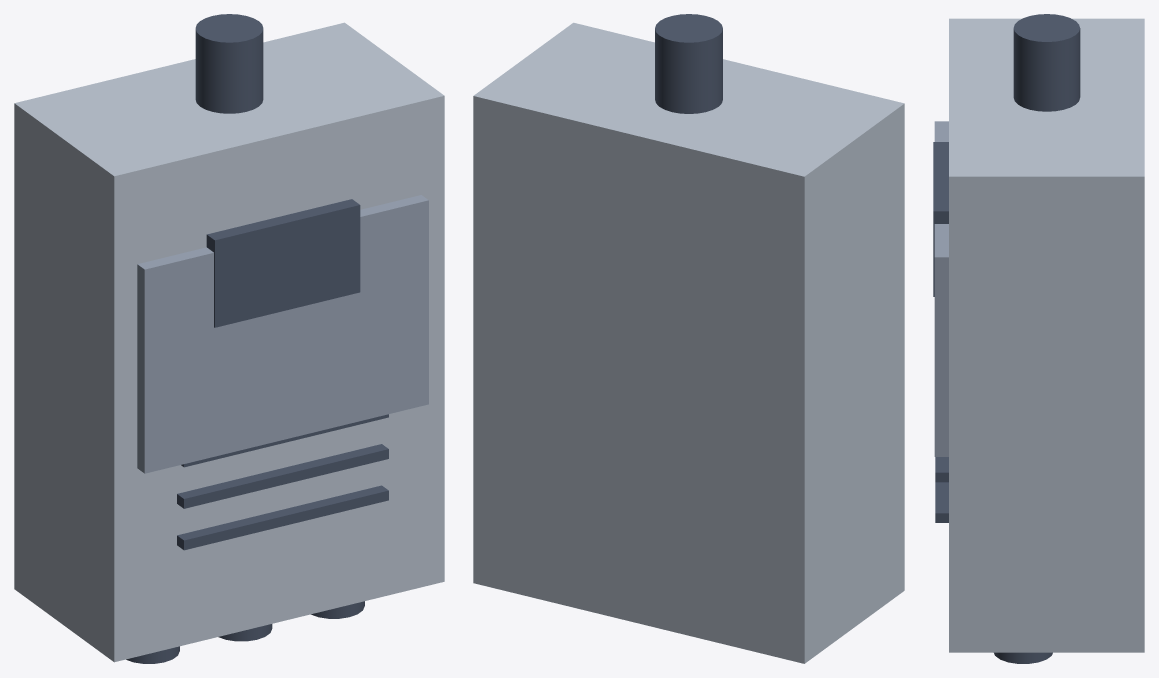
File: gaswaterheater.glb
3 renders of one model, left to right at view 1: azimuth 30°, elevation 25°; view 2: azimuth 150°, elevation 25°; view 3: azimuth 270°, elevation 25°, orthographic. The views are drawn at different scales.
Parts seen in each view (by area): view 1: gaswaterheater; view 2: gaswaterheater; view 3: gaswaterheater.
Boxes of the visible parts, x1,y1,x2,y2 form: gaswaterheater: (14, 14, 444, 663); gaswaterheater: (473, 14, 904, 663); gaswaterheater: (933, 14, 1144, 663).
Size of the model in its own units: 0.42 by 0.72 by 0.2378.
